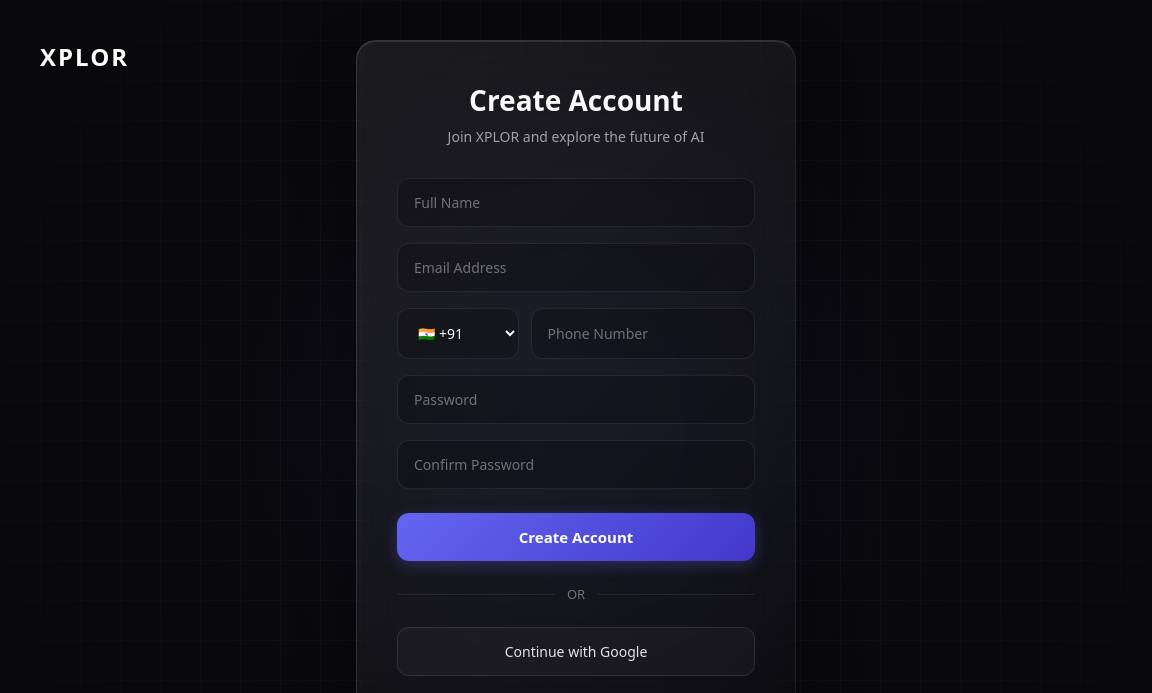
Test: Signup › an existing email shows the server’s message
Type "Ada Lovelace" into the field with placeholder "Full Name" at (576, 202), box [397, 178, 755, 227]
Type "ada@example.test" into the field with placeholder "Email Address" at (576, 268), box [397, 243, 755, 292]
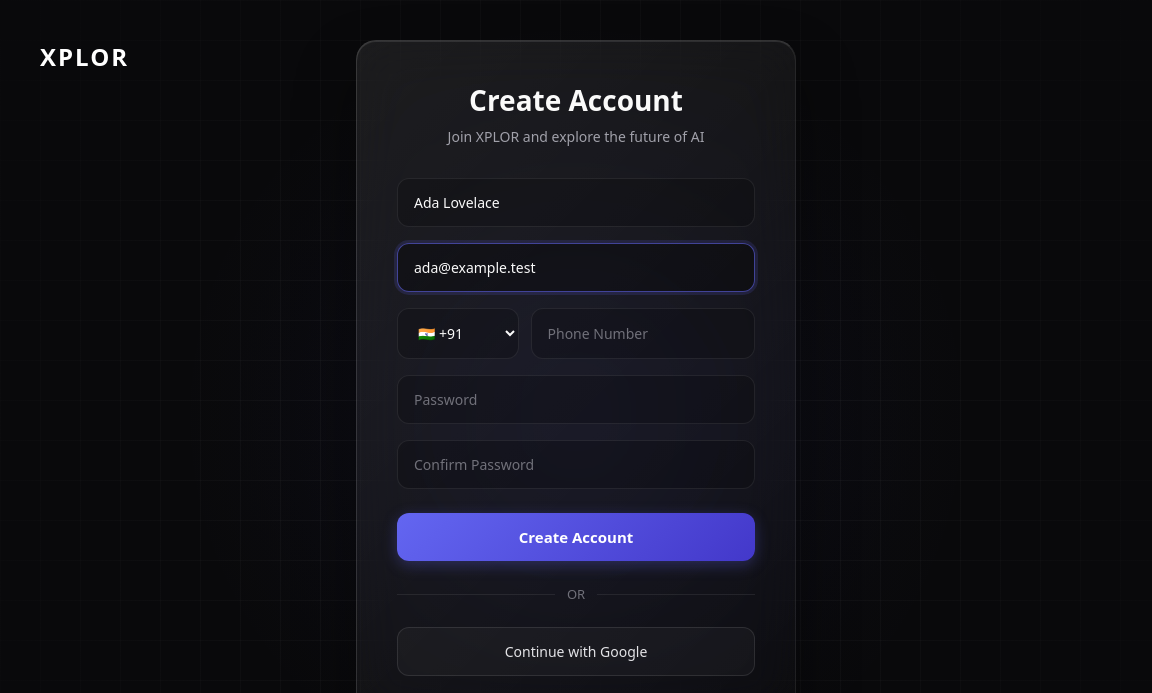
Select "🇬🇧 +44" in the dropdown at (458, 334), box [397, 308, 518, 359]
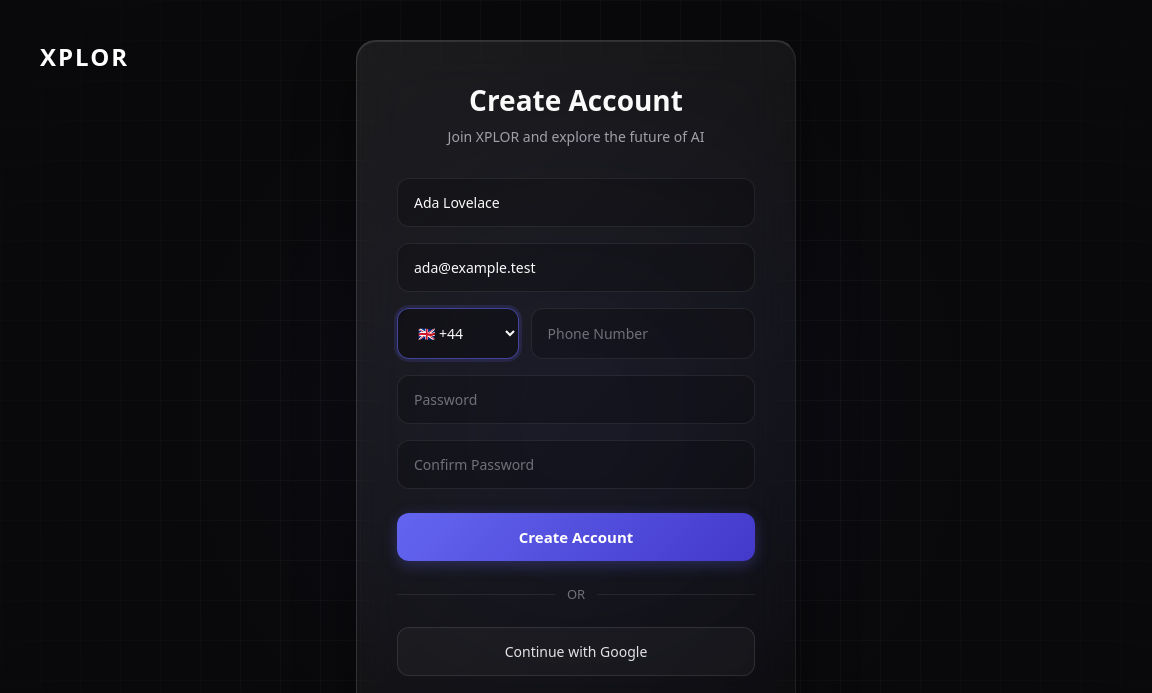
Type "7700900000" into the field with placeholder "Phone Number" at (643, 334), box [530, 308, 755, 359]
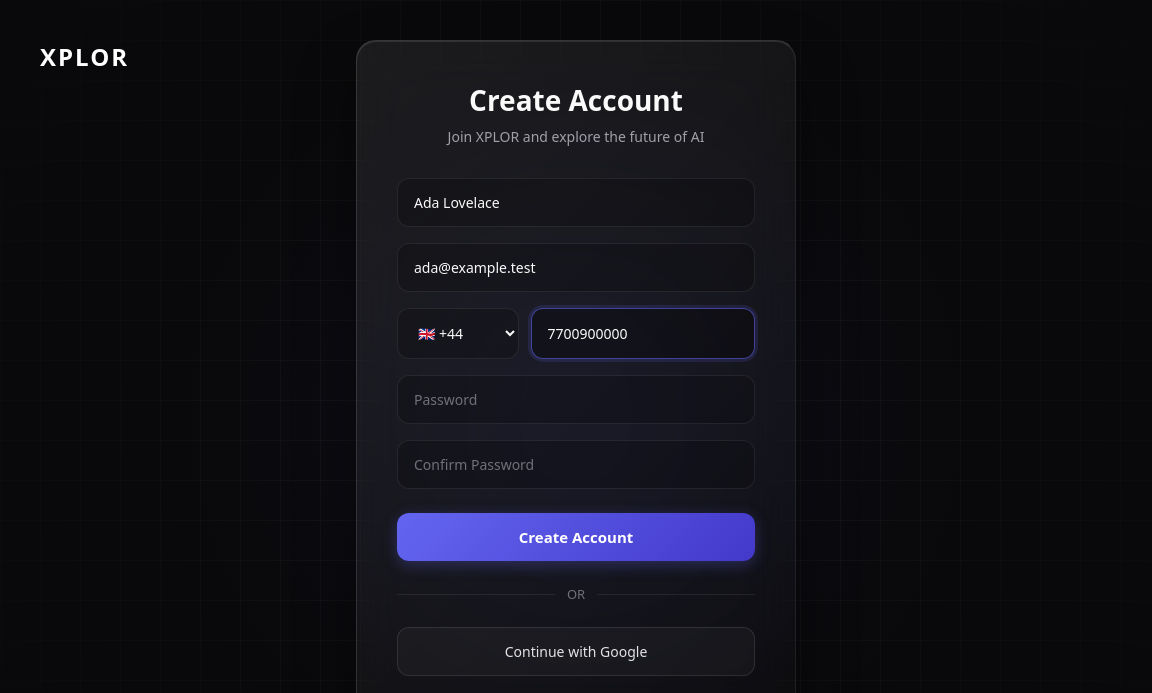
Type "Testing123" into the password field with placeholder "Password" at (576, 400), box [397, 375, 755, 424]
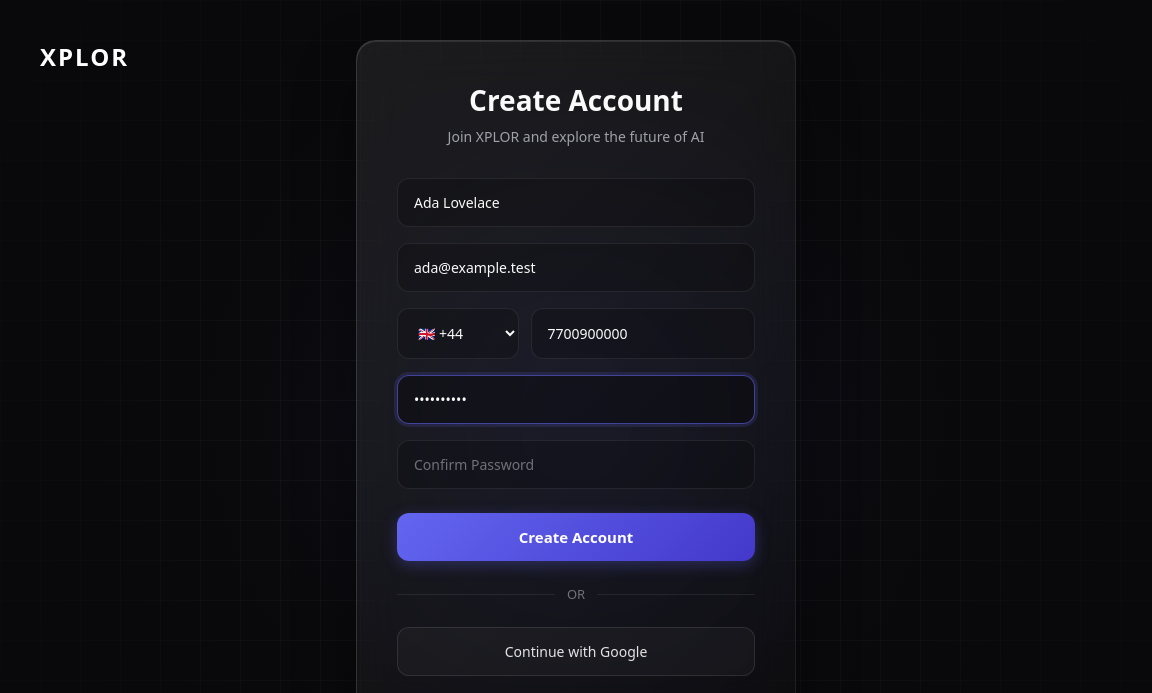
Type "Testing123" into the password field with placeholder "Confirm Password" at (576, 464), box [397, 440, 755, 489]
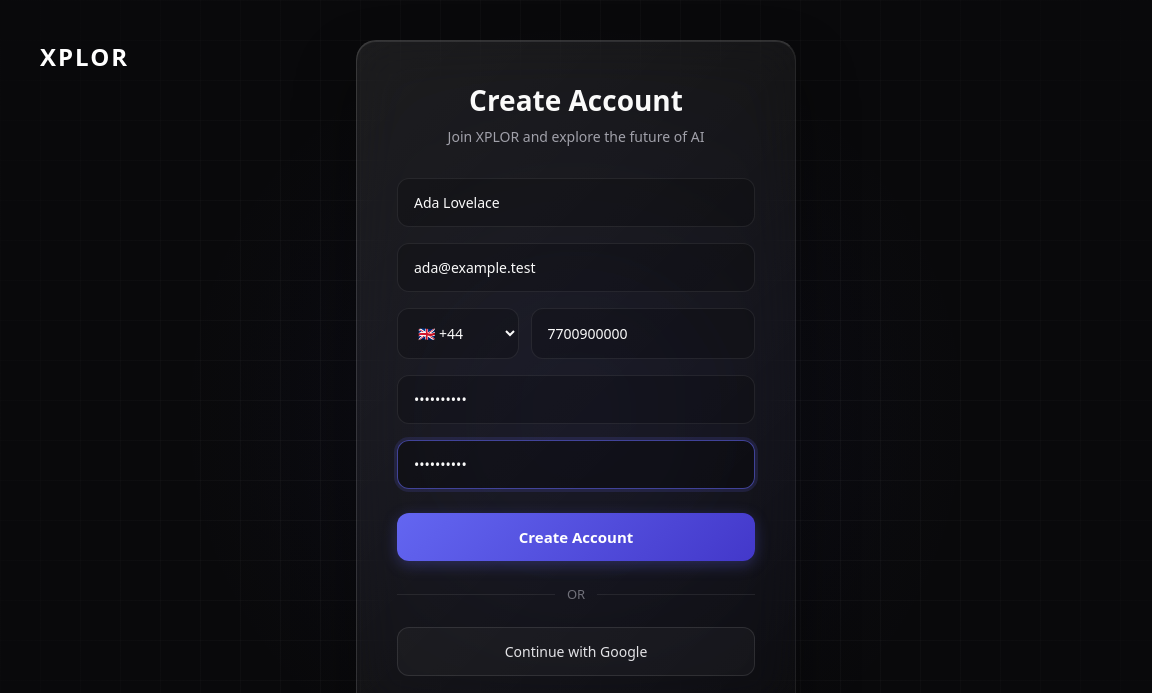
Click the button "Create Account" at (576, 537), box [397, 513, 755, 561]
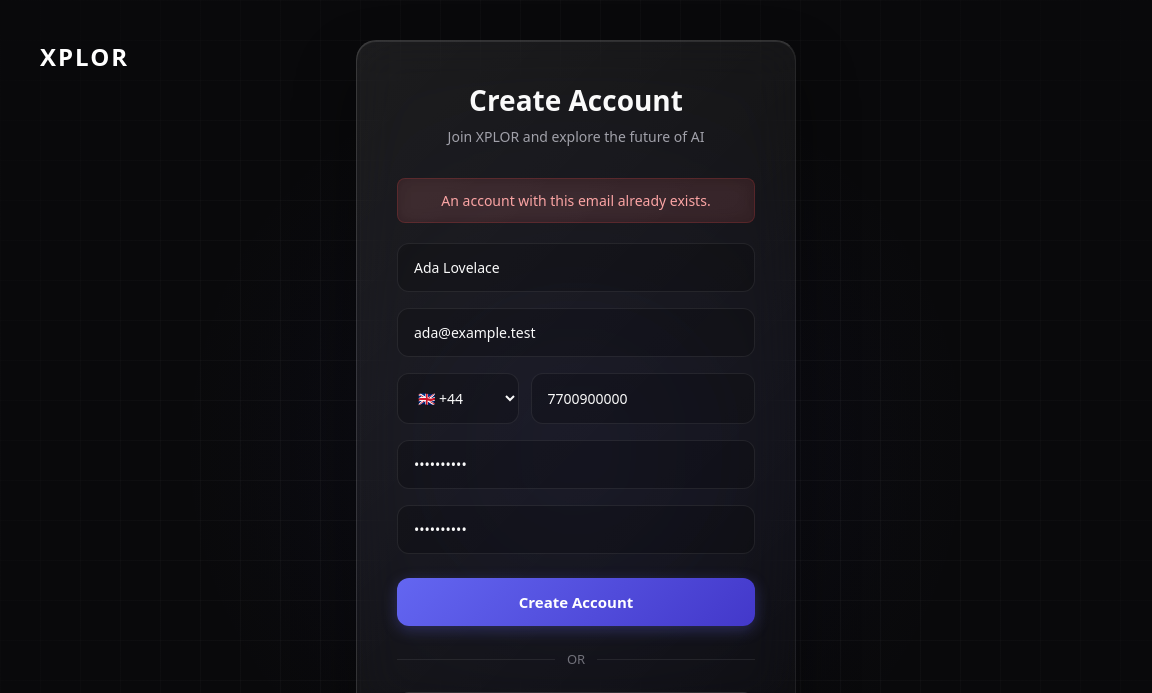
Expected: the message reads "An account with this email already exists.", [441, 191, 711, 210]
